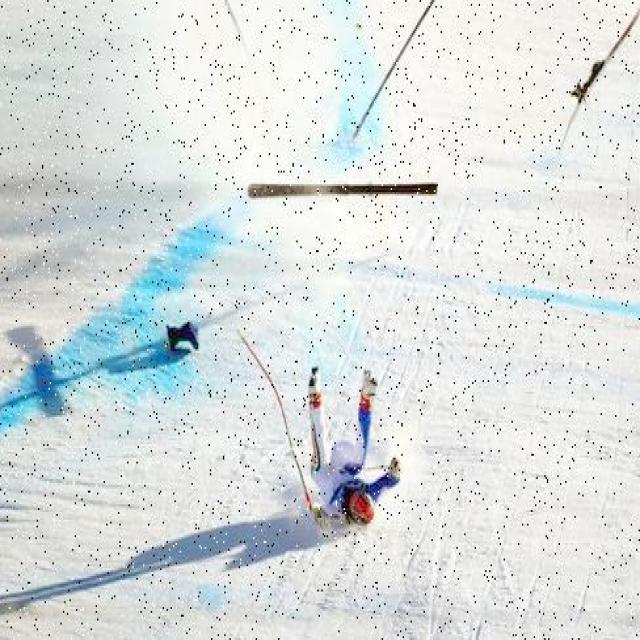fall: (300, 362, 402, 518)
